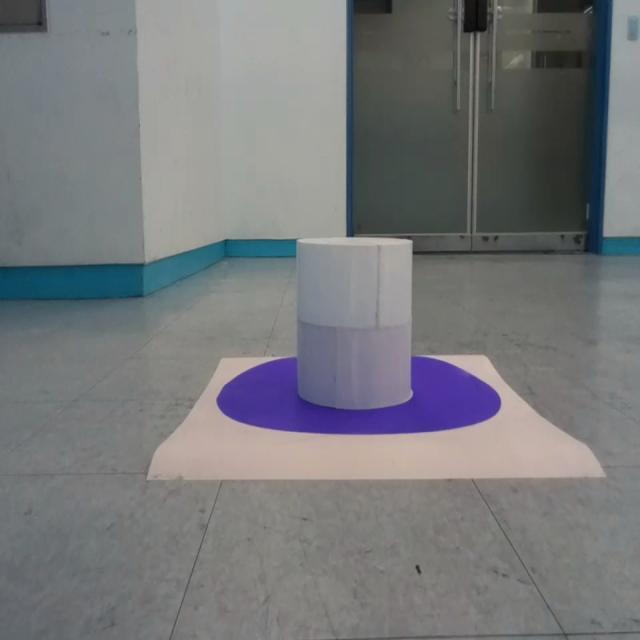cylinder: (295, 238, 414, 412)
